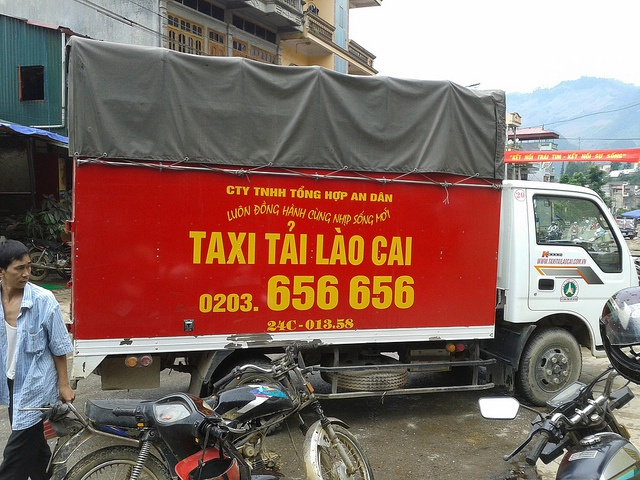non-vehicle: (17, 339, 373, 479), (477, 365, 638, 472), (110, 392, 251, 480)
